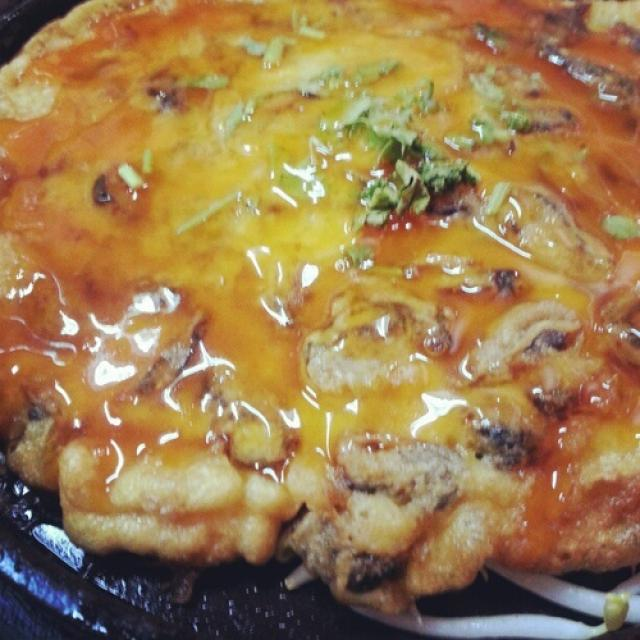炸货点心: (12, 21, 620, 599)
蛋糕甜品: (12, 21, 620, 599)
